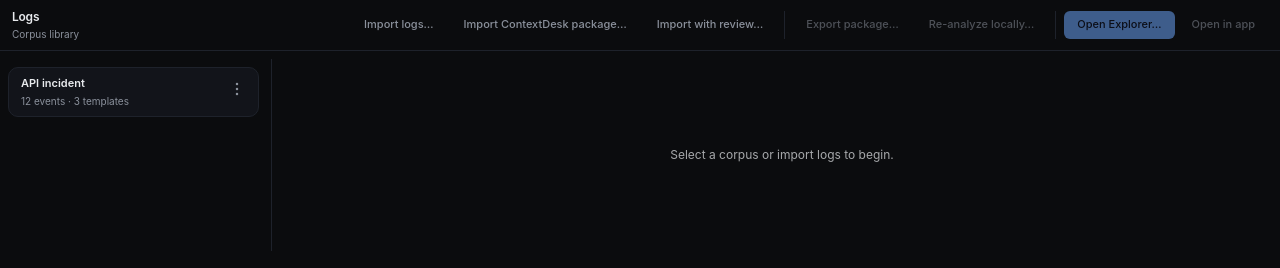
Test case: LogPane › dismisses the corpus menu with Escape or outside pointer input and restores focus
Click the button named "More actions for API incident". click: (237, 89)
box: [223, 75, 251, 103]
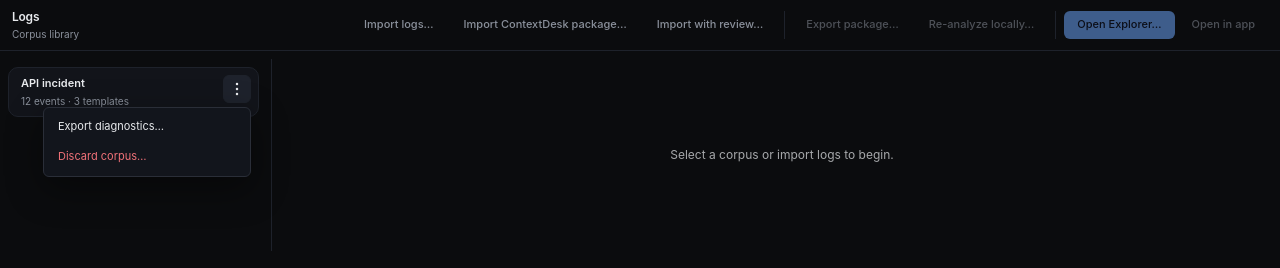
Expected: the menu is shown, [43, 107, 251, 177]
Press Escape
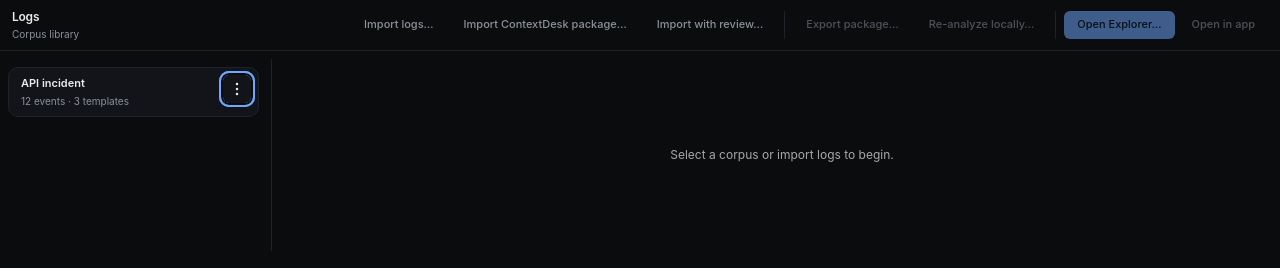
Expected: the menu is gone
Click the button named "More actions for API incident". click: (237, 89)
box: [223, 75, 251, 103]
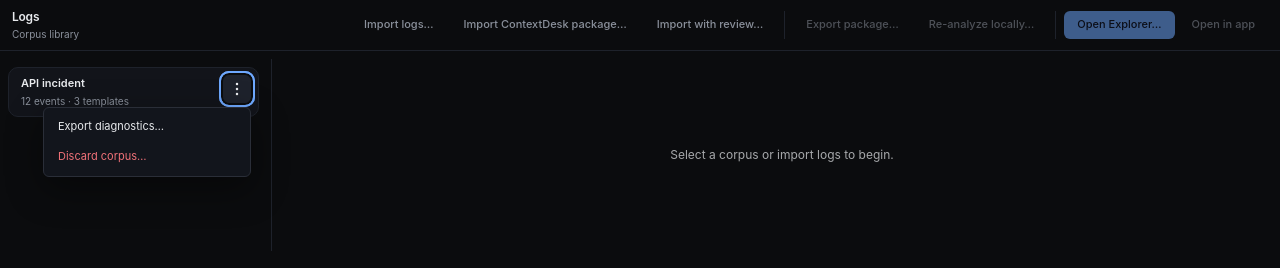
Expected: the menu is shown, [43, 107, 251, 177]
Press the mouse on the heading "Logs" at (26, 16), box [12, 9, 39, 24]
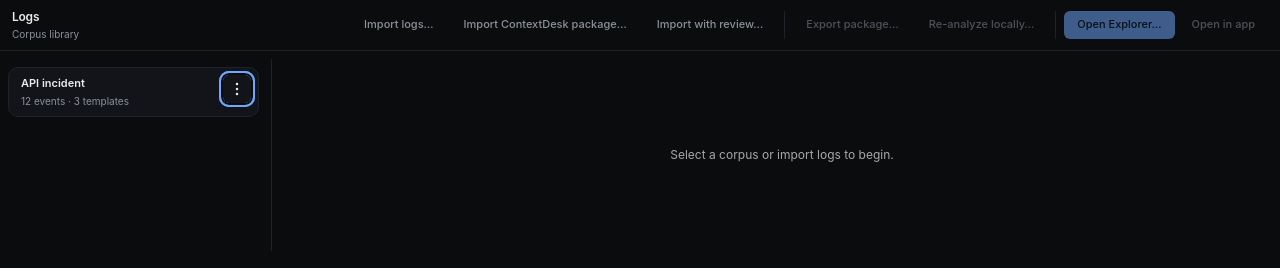
Expected: the menu is gone
